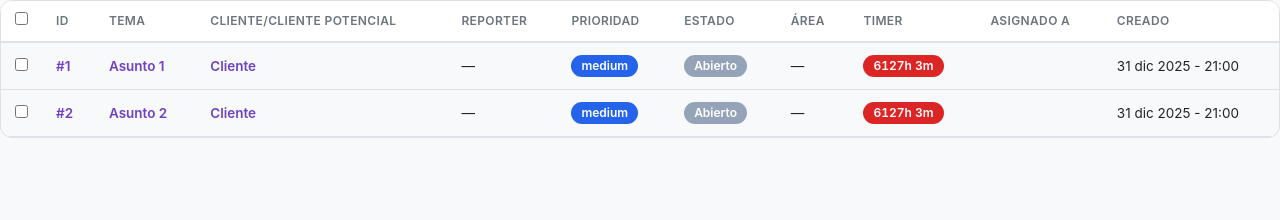
Scenario: TicketsTableView — permission gating › Cerrar is gated by tickets.close, NOT tickets.write (hidden with write alone)
Click the checkbox named "Seleccionar todos". click: (22, 18)
box: [15, 12, 28, 25]
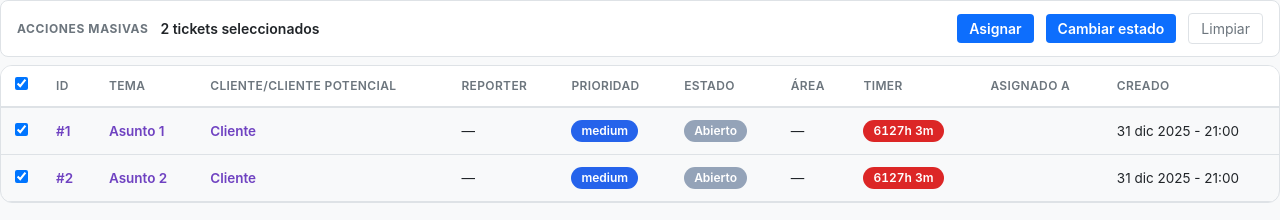
Now the button "Asignar" is shown, box [957, 14, 1034, 43]
Now the button "Cambiar estado" is shown, box [1046, 14, 1176, 43]
